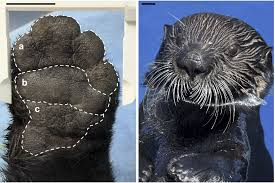otter: (144, 5, 272, 181)
